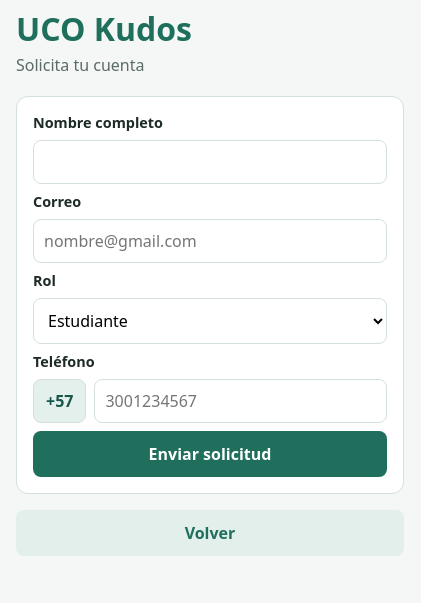
Test: SolicitudCuenta › muestra el error del backend si el correo no es válido
Type "Ana Gomez" into the field labelled "Nombre completo" at (210,162), box [33,140,387,184]
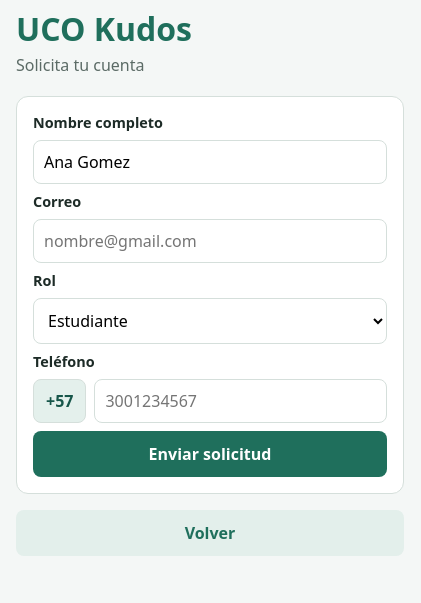
Type "ana.gomez1111@uco.net.co" into the field labelled "Correo" at (210,241), box [33,219,387,263]
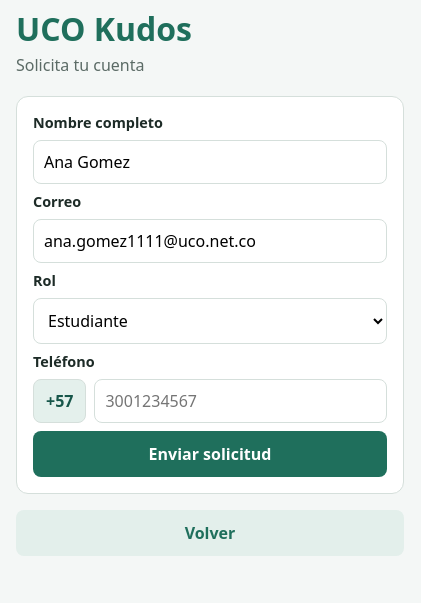
Select "Profesor" in the dropdown labelled "Rol" at (210,321), box [33,298,387,344]
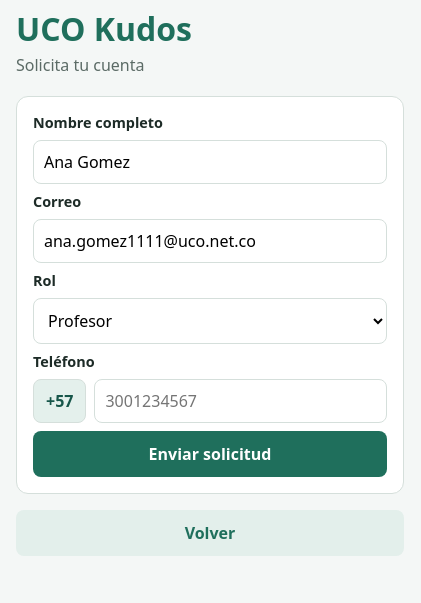
Type "3000000001" into the field labelled "Teléfono" at (241,401), box [94,379,387,423]
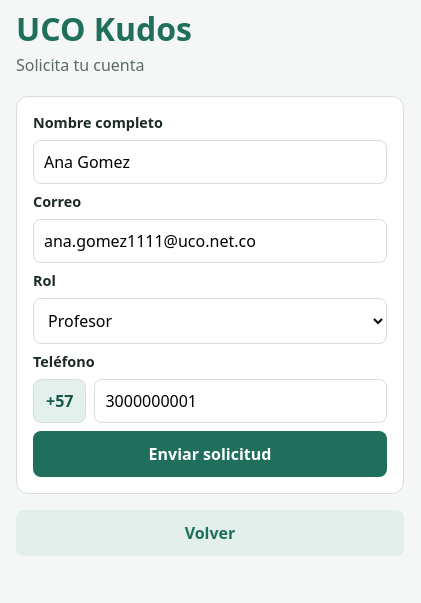
Click the button "Enviar solicitud" at (210,454), box [33,431,387,477]
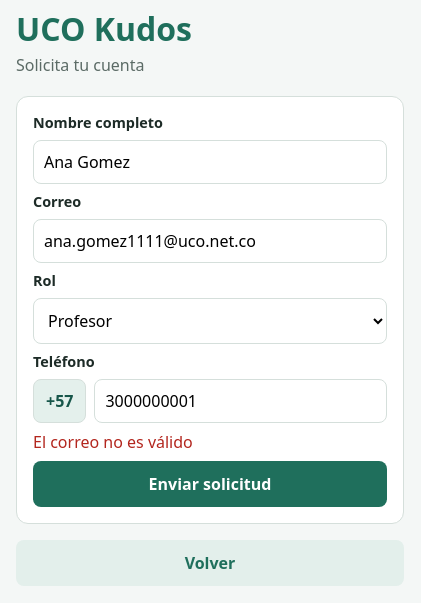
Result: the text "El correo no es válido" is shown at [33,431,193,453]
